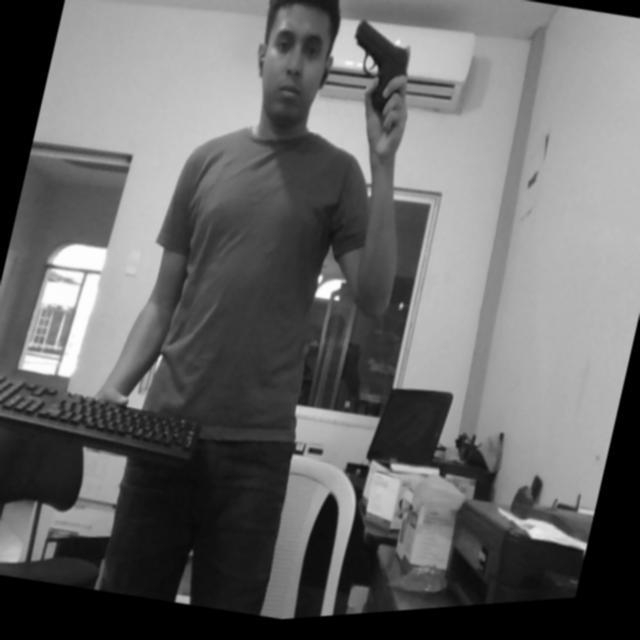weapon: (336, 18, 419, 128)
